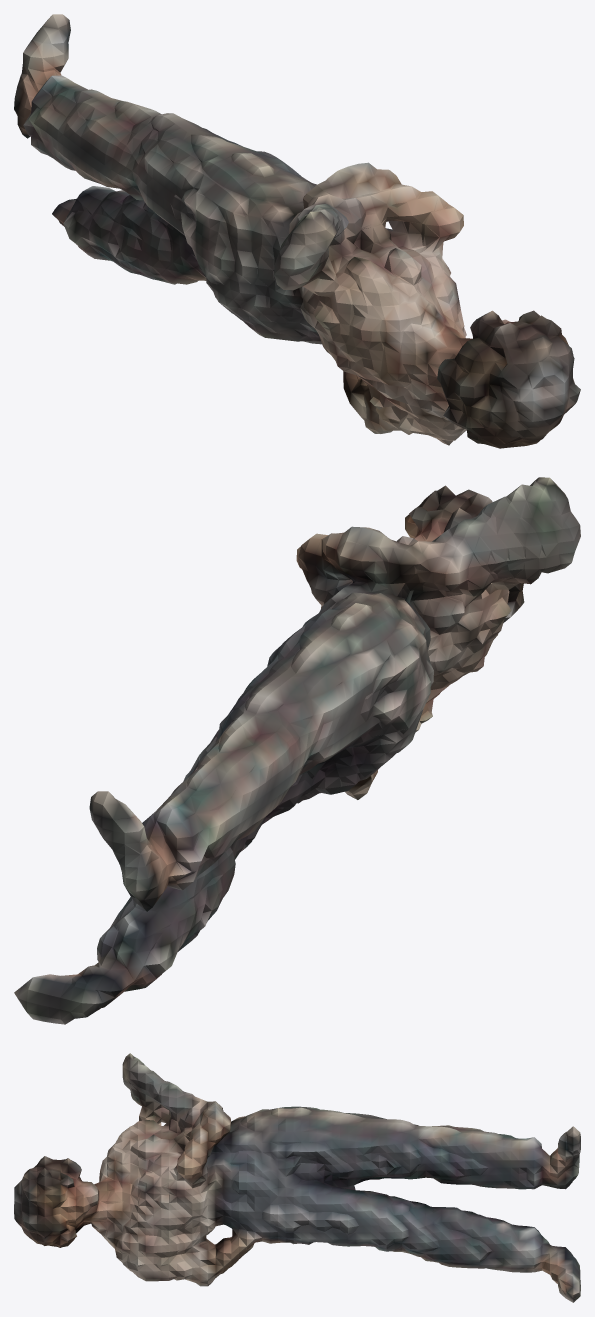
The picture shows the model from 3 angles, top to bottom: view 1: azimuth 30°, elevation 25°; view 2: azimuth 150°, elevation 25°; view 3: azimuth 270°, elevation 25°; orthographic projection. The views are drawn at different scales.
Visible parts, largest first — view 1: world; view 2: world; view 3: world.
Boxes of the visible parts, x1,y1,x2,y2 form: world: (14, 14, 580, 448); world: (14, 477, 580, 1024); world: (14, 1053, 580, 1302).
Size of the model in its own units: 0.299 by 0.3903 by 0.9994.
